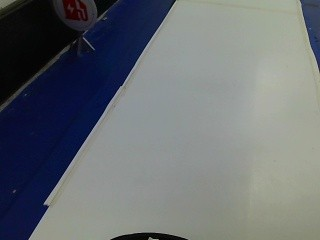battery: (55, 0, 95, 33)
